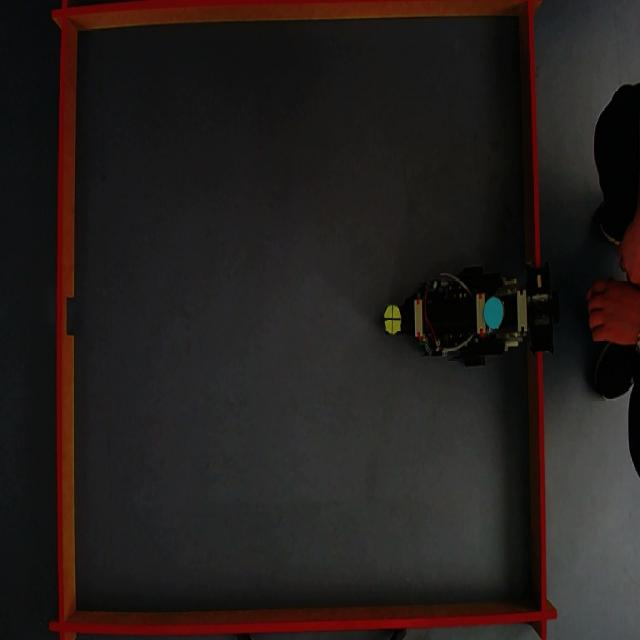robot: (384, 264, 559, 369)
robot-front: (383, 303, 402, 336)
robot-rear: (484, 291, 504, 331)
